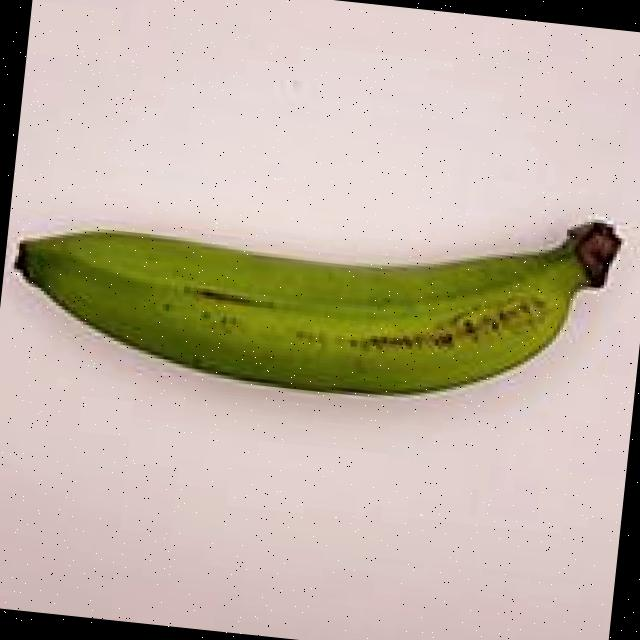Raw: (0, 122, 633, 443)
